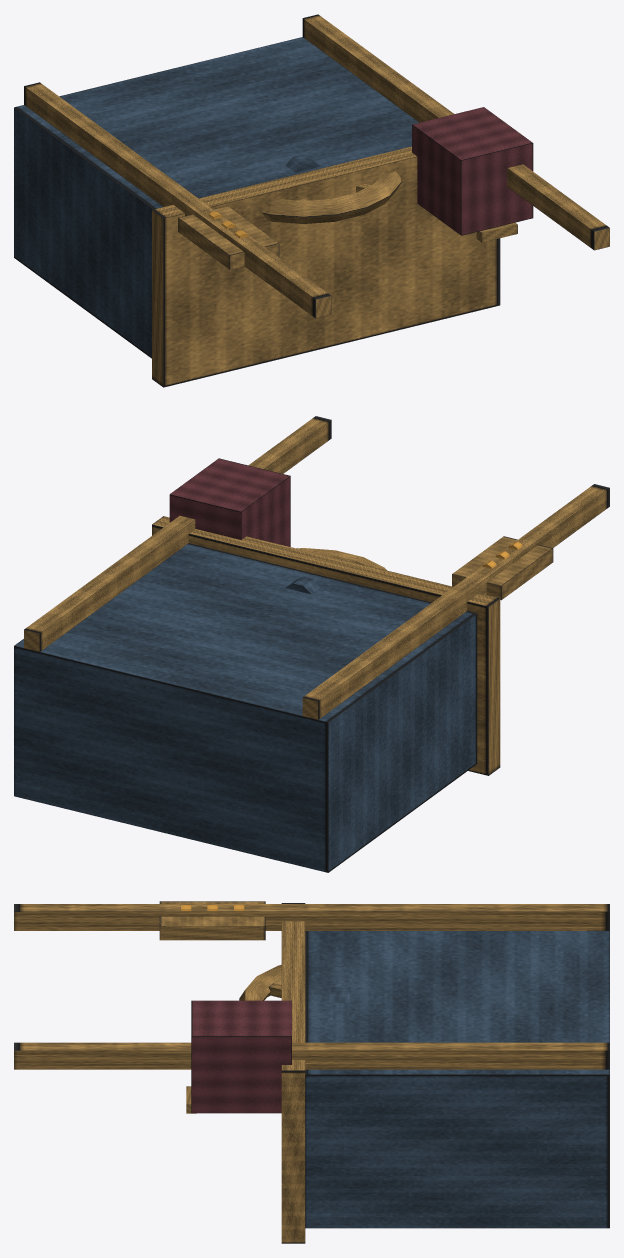
Rendered from skyhotel_dumbwaiter_winch_head.obj.
3 renders of one model, top to bottom at view 1: azimuth 30°, elevation 25°; view 2: azimuth 150°, elevation 25°; view 3: azimuth 270°, elevation 25°, orthographic. The views are drawn at different scales.
Parts seen in each view (by area): view 1: skyhotel_dumbwaiter_winch_head; view 2: skyhotel_dumbwaiter_winch_head; view 3: skyhotel_dumbwaiter_winch_head.
Boxes of the visible parts, box(x1,y1,x2,y2) form: skyhotel_dumbwaiter_winch_head: box(14, 14, 609, 387); skyhotel_dumbwaiter_winch_head: box(14, 416, 609, 872); skyhotel_dumbwaiter_winch_head: box(14, 901, 609, 1243).
Bounding box in the file's own units: 1.5 × 0.84 × 2.25.
Materials: 4 (4 with a texture image).
